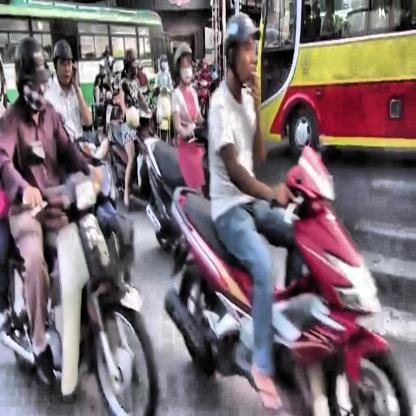wear: (222, 7, 260, 86), (13, 33, 49, 112), (53, 35, 78, 85), (173, 41, 196, 86), (123, 47, 139, 79)
